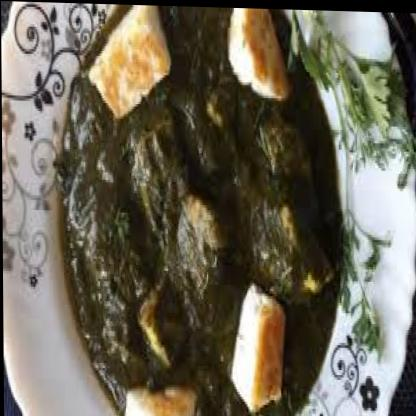palak_paneer: (53, 1, 344, 416)
